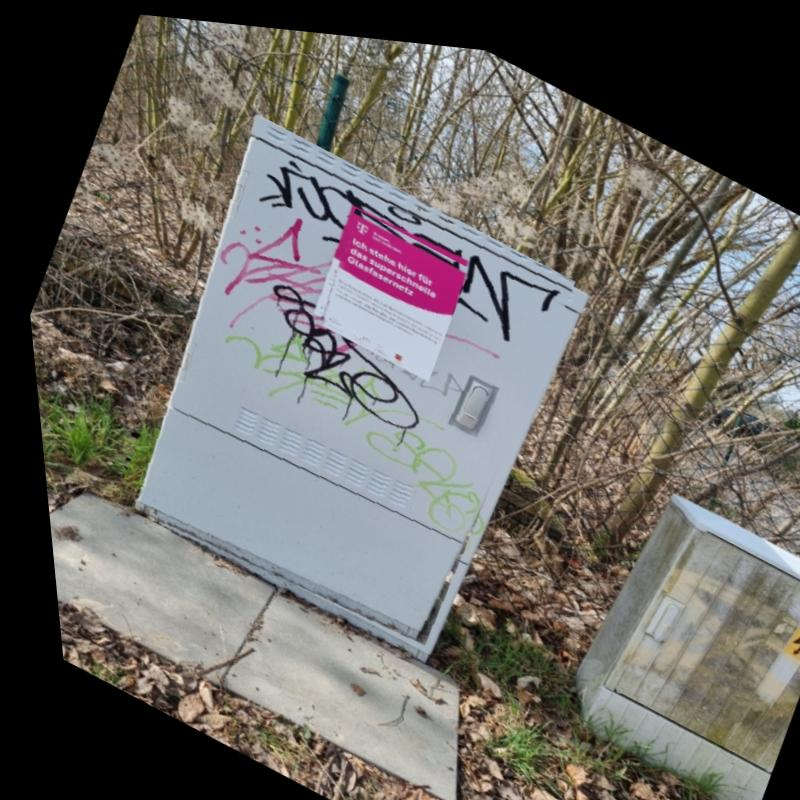NT-Gehause: (74, 95, 602, 676)
Steaker: (299, 197, 474, 378)
